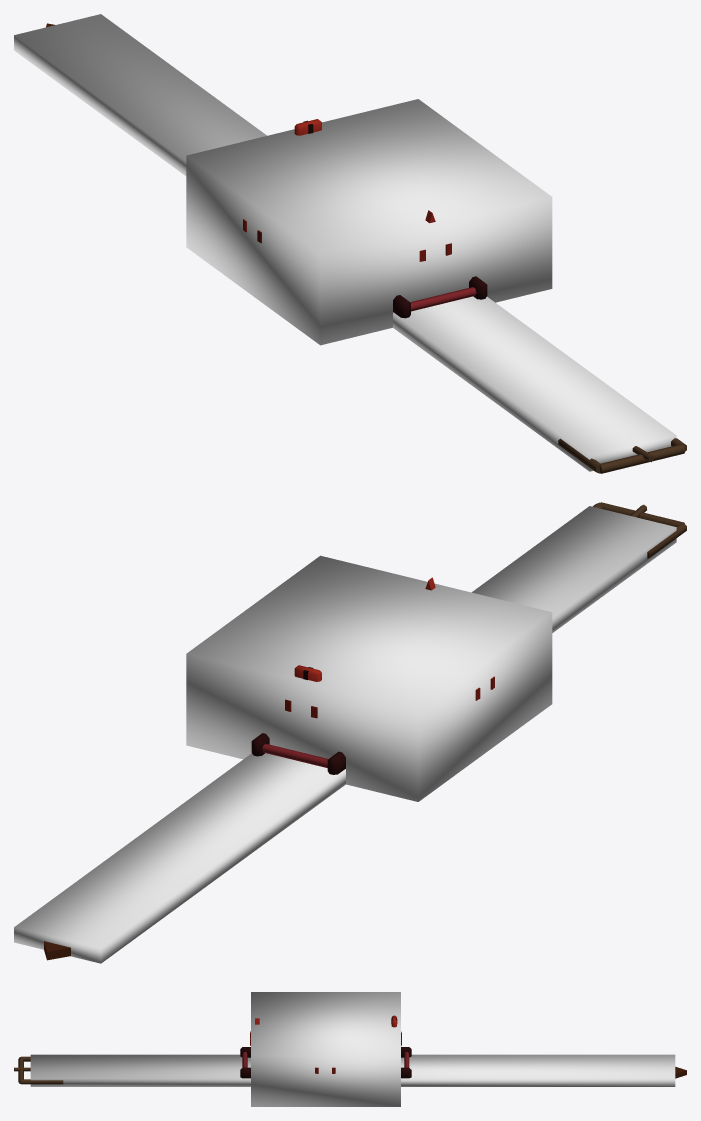
Rendered from brujula.glb.
3 renders of one model, top to bottom at view 1: azimuth 30°, elevation 25°; view 2: azimuth 150°, elevation 25°; view 3: azimuth 270°, elevation 25°, orthographic. The views are drawn at different scales.
Visible parts, largest first — view 1: brujula-colcaja, brujula_correa-colcaja, correa, caja, bisel; view 2: brujula-colcaja, brujula_correa-colcaja, correa, caja, bisel; view 3: brujula-colcaja, brujula_correa-colcaja, caja, correa.
Part boxes in pixels (x1=…): brujula-colcaja: x1=186, y1=99, x2=552, y2=345; brujula_correa-colcaja: x1=14, y1=14, x2=676, y2=471; correa: x1=46, y1=23, x2=686, y2=473; caja: x1=393, y1=276, x2=487, y2=318; bisel: x1=243, y1=119, x2=451, y2=261; brujula-colcaja: x1=186, y1=555, x2=552, y2=801; brujula_correa-colcaja: x1=14, y1=506, x2=676, y2=963; correa: x1=44, y1=502, x2=686, y2=960; caja: x1=251, y1=733, x2=345, y2=774; bisel: x1=285, y1=577, x2=494, y2=718; brujula-colcaja: x1=251, y1=992, x2=400, y2=1106; brujula_correa-colcaja: x1=30, y1=1054, x2=675, y2=1086; caja: x1=240, y1=1047, x2=411, y2=1078; correa: x1=14, y1=1056, x2=686, y2=1084.
Bounding box in the file's own units: 0.0648 × 0.0267 × 0.287.
